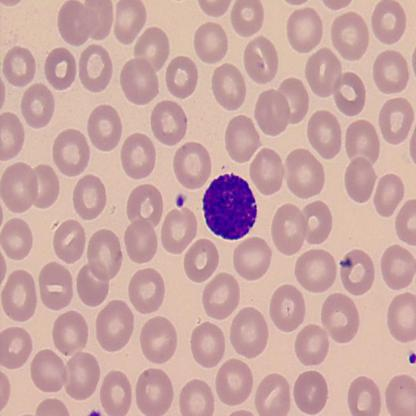Basophil: (200, 170, 259, 243)
